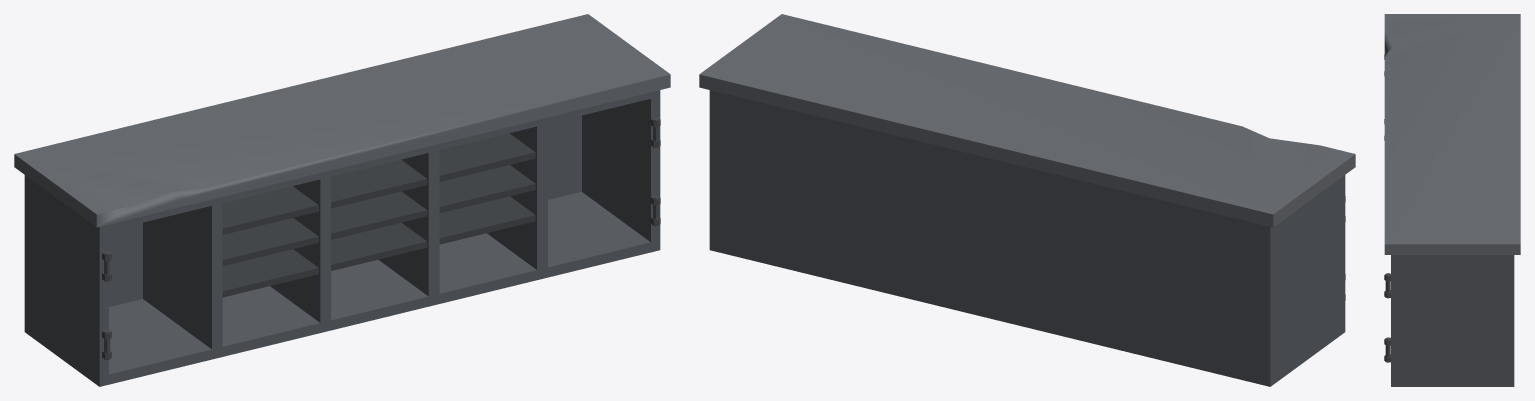
Rendered from SM_Prop_WorkBench_01.fbx.
3 views of the same model, side by side, from view 1: azimuth 30°, elevation 25°; view 2: azimuth 150°, elevation 25°; view 3: azimuth 270°, elevation 25° (orthographic). The views are drawn at different scales.
Parts seen in each view (by area): view 1: SM_Prop_WorkBench_01; view 2: SM_Prop_WorkBench_01; view 3: SM_Prop_WorkBench_01.
Part boxes in pixels (x1,y1,x2,y2): SM_Prop_WorkBench_01: [14, 14, 670, 386]; SM_Prop_WorkBench_01: [699, 14, 1355, 386]; SM_Prop_WorkBench_01: [1384, 14, 1520, 386].
Size of the model in its own units: 344 by 101 by 85.94.
